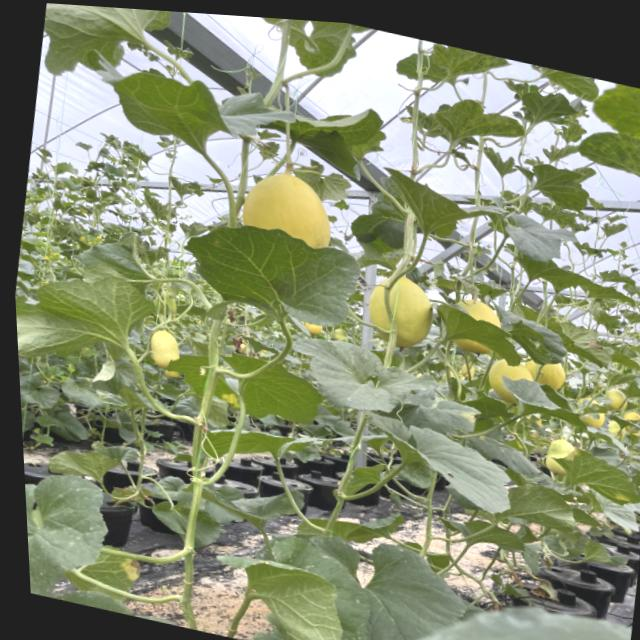CMV: (399, 84, 534, 164), (565, 118, 640, 197), (518, 156, 601, 220), (413, 38, 515, 85)
alternaria leaf blight: (539, 318, 624, 370)
downy mildew: (175, 204, 370, 342), (24, 460, 128, 611), (502, 477, 587, 540)
healthy: (35, 2, 205, 108), (359, 414, 519, 516), (14, 265, 150, 383), (286, 331, 443, 427), (107, 62, 239, 156), (233, 557, 358, 640), (287, 90, 393, 179), (367, 162, 478, 246), (425, 297, 531, 368), (539, 437, 640, 509), (496, 373, 595, 435), (282, 19, 370, 86), (499, 210, 577, 269), (528, 65, 604, 105)
